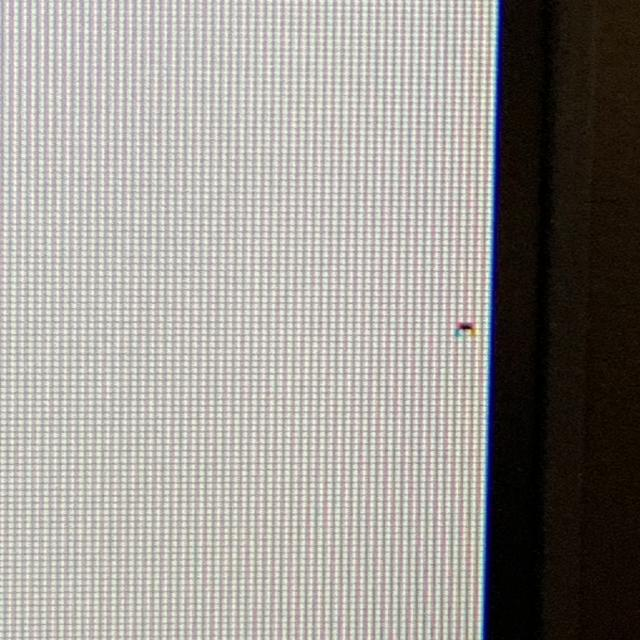Dead pixel: (455, 323, 476, 337)
